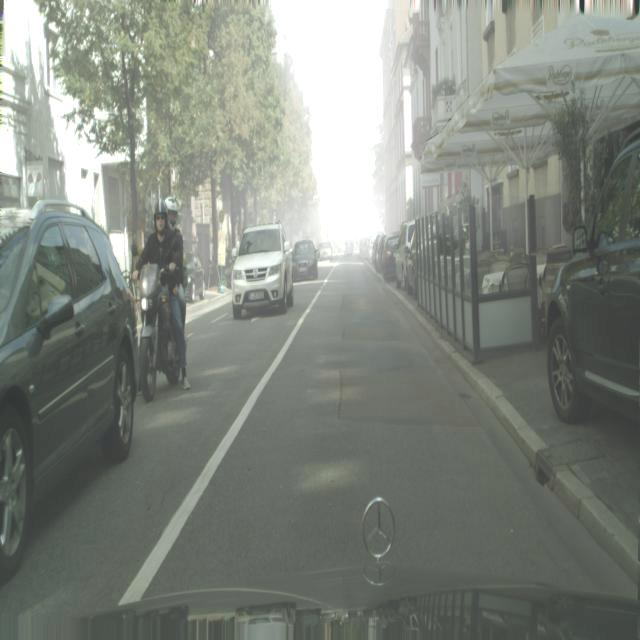motorcycle: (132, 187, 182, 402)
person: (0, 201, 139, 574), (544, 141, 640, 425), (231, 223, 294, 319), (394, 219, 416, 291), (183, 251, 205, 302), (292, 239, 319, 280), (381, 232, 399, 281), (372, 233, 387, 271), (318, 239, 332, 259)
